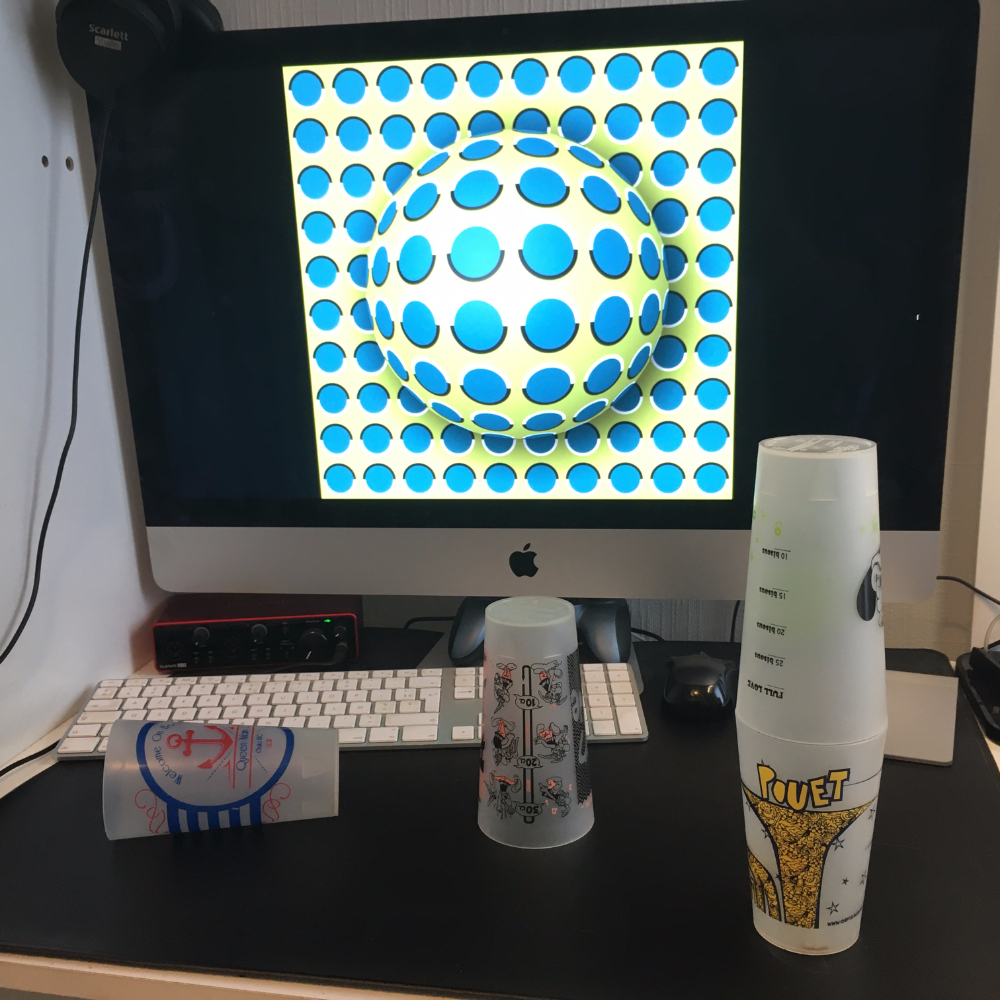ecocup: (736, 434, 888, 744), (735, 714, 888, 955), (476, 594, 595, 849), (101, 718, 338, 840)
